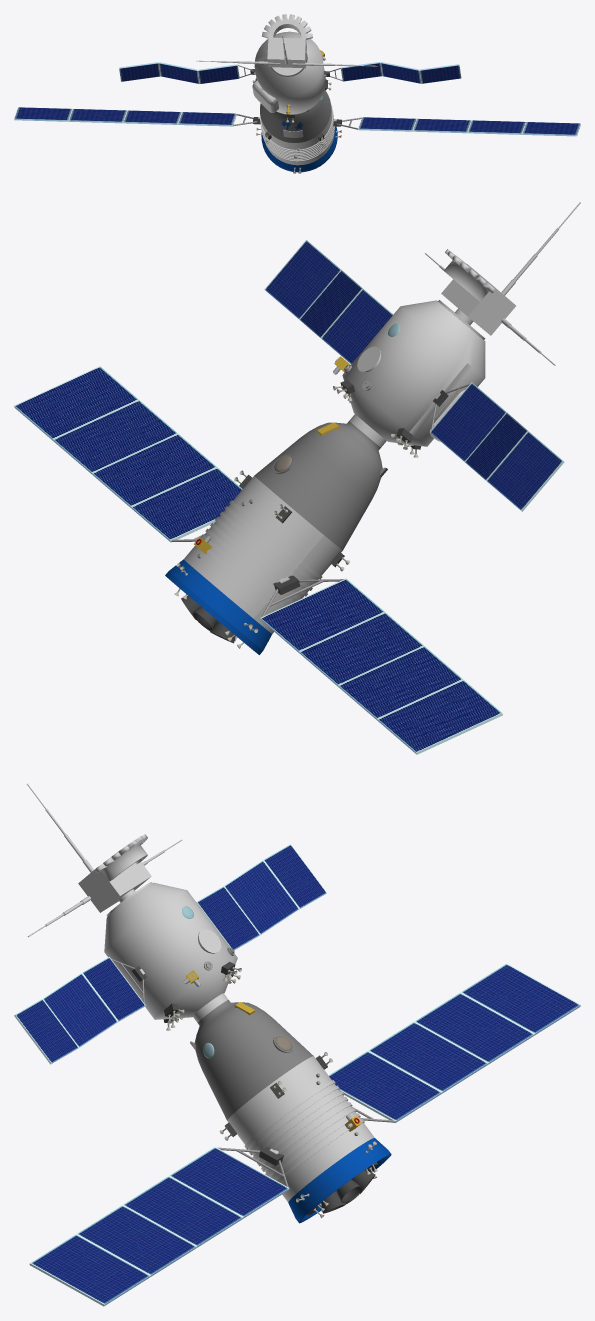
File: Satelite.obj
3 views of the same model, one above another, from view 1: azimuth 30°, elevation 25°; view 2: azimuth 150°, elevation 25°; view 3: azimuth 270°, elevation 25° (orthographic). The views are drawn at different scales.
Visible parts, largest first — view 1: mesh01_Untitled.117, mesh05_Untitled.183, cube32_Untitled.229, cube07_Untitled.023, cube04_Untitled.002, 2_Untitled.210, cube02_Untitled.070, cube01_Untitled.077, cube09_Untitled.205, mesh02_Untitled.134, cube08_Untitled.161, cube03_Untitled.199 (+9 smaller); view 2: mesh01_Untitled.117, mesh05_Untitled.183, mesh02_Untitled.134, cube07_Untitled.023, 2_Untitled.210, cube08_Untitled.161, cube03_Untitled.199, cube01_Untitled.077, cube02_Untitled.070, cube09_Untitled.205, cube04_Untitled.002, cube27_Untitled.049 (+9 smaller); view 3: mesh01_Untitled.117, mesh02_Untitled.134, mesh05_Untitled.183, cube01_Untitled.077, 2_Untitled.210, cube08_Untitled.161, cube07_Untitled.023, cube04_Untitled.002, cube03_Untitled.199, cube02_Untitled.070, cube09_Untitled.205, cube16_Untitled.148 (+9 smaller).
Part boxes in pixels (x1,y1,x2,y2): mesh01_Untitled.117: (254, 31, 325, 114); mesh05_Untitled.183: (260, 90, 331, 142); cube32_Untitled.229: (267, 37, 306, 68); cube07_Untitled.023: (14, 107, 72, 121); cube04_Untitled.002: (358, 117, 416, 131); 2_Untitled.210: (178, 112, 236, 126); cube02_Untitled.070: (467, 120, 525, 134); cube01_Untitled.077: (522, 122, 580, 136); cube09_Untitled.205: (123, 110, 181, 124); mesh02_Untitled.134: (260, 107, 334, 165); cube08_Untitled.161: (68, 109, 127, 123); cube03_Untitled.199: (413, 118, 471, 133); mesh01_Untitled.117: (342, 300, 485, 446); mesh05_Untitled.183: (254, 421, 382, 550); mesh02_Untitled.134: (183, 476, 342, 633); cube07_Untitled.023: (377, 679, 502, 754); 2_Untitled.210: (260, 578, 384, 653); cube08_Untitled.161: (338, 646, 462, 720); cube03_Untitled.199: (92, 433, 216, 508); cube01_Untitled.077: (14, 366, 138, 440); cube02_Untitled.070: (53, 400, 177, 474); cube09_Untitled.205: (299, 612, 423, 686); cube04_Untitled.002: (131, 467, 242, 542); cube27_Untitled.049: (486, 431, 564, 511); mesh01_Untitled.117: (104, 882, 237, 1019); mesh02_Untitled.134: (227, 1056, 374, 1202); mesh05_Untitled.183: (194, 1000, 313, 1120); cube01_Untitled.077: (29, 1234, 150, 1306); 2_Untitled.210: (328, 1051, 441, 1122); cube08_Untitled.161: (414, 992, 534, 1064); cube07_Untitled.023: (460, 963, 580, 1035); cube04_Untitled.002: (169, 1146, 289, 1218); cube03_Untitled.199: (123, 1176, 242, 1247); cube02_Untitled.070: (76, 1205, 196, 1276); cube09_Untitled.205: (368, 1022, 488, 1093); cube16_Untitled.148: (224, 860, 299, 934).
Bounding box in the file's own units: 5.35 × 2.74 × 3.99.
13 materials, 1 textured.
